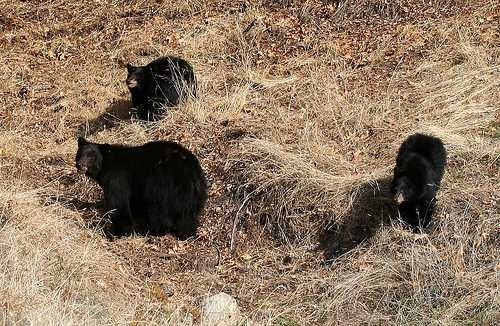bear: (348, 118, 476, 246), (76, 125, 204, 253), (99, 32, 227, 160)
